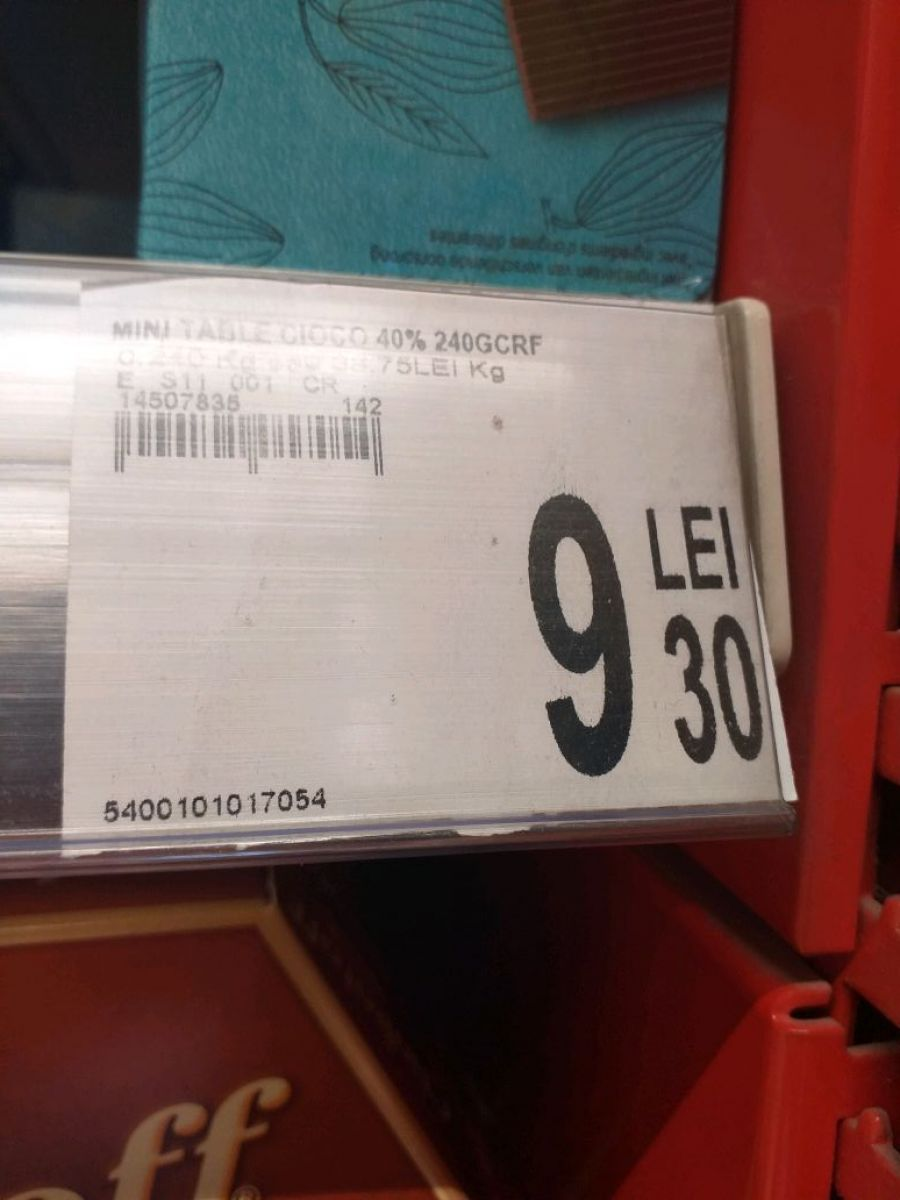bardcode: (101, 782, 329, 833)
list: (56, 271, 809, 853)
name: (109, 310, 550, 358)
price: (513, 488, 775, 785)
